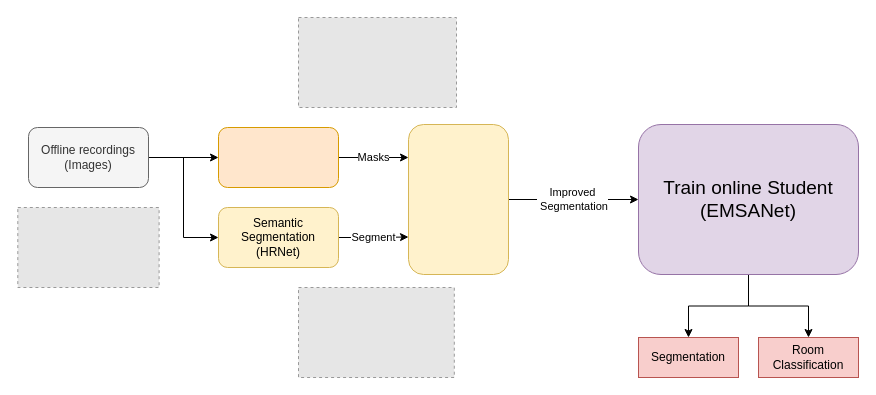
Some shapes in this 876 by 395 pixel diagram are drawn without their labels. Grey dashed boxes stand in for pictures. The centre of each missing label's shape, as x and y in pixels:
"Instance Segmentation (SAM)" belongs at (x=278, y=157).
"Segmentation of masks" belongs at (x=458, y=199).
